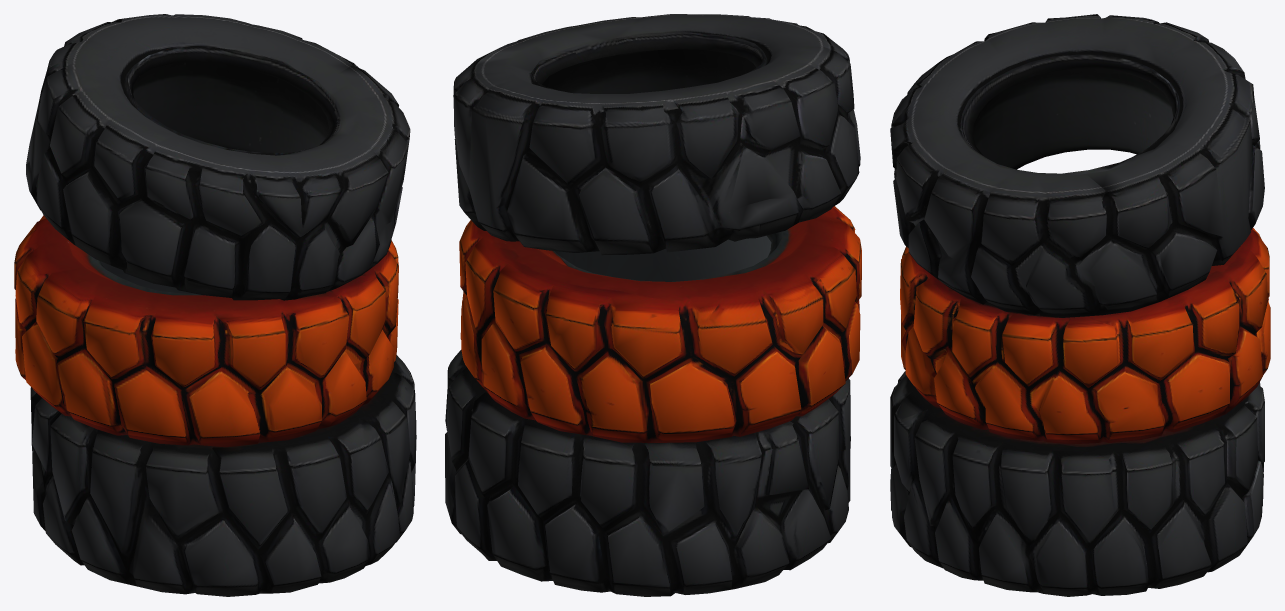
The model's file is tire-stack.glb.
3 renders of one model, left to right at view 1: azimuth 30°, elevation 25°; view 2: azimuth 150°, elevation 25°; view 3: azimuth 270°, elevation 25°, orthographic. The views are drawn at different scales.
Visible parts, largest first — view 1: tripo_node_738da415-9c35-4e5a-bfee-7b2635d626af; view 2: tripo_node_738da415-9c35-4e5a-bfee-7b2635d626af; view 3: tripo_node_738da415-9c35-4e5a-bfee-7b2635d626af.
Boxes of the visible parts, x1,y1,x2,y2 form: tripo_node_738da415-9c35-4e5a-bfee-7b2635d626af: (14, 14, 416, 596); tripo_node_738da415-9c35-4e5a-bfee-7b2635d626af: (445, 14, 861, 596); tripo_node_738da415-9c35-4e5a-bfee-7b2635d626af: (890, 14, 1270, 596).
Bounding box in the file's own units: 1.06 × 1.35 × 1.03.
Materials: 1 (1 with a texture image).
